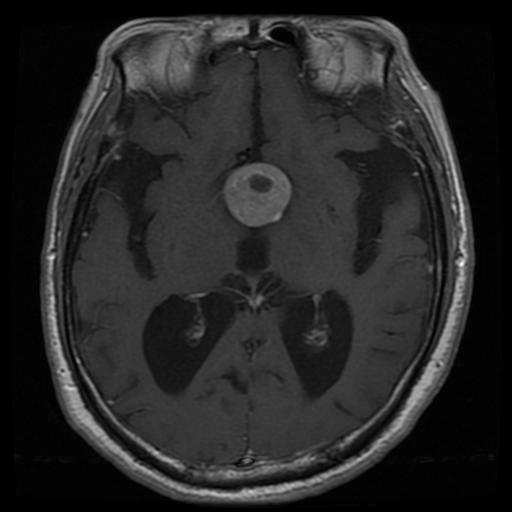Tumour-Pituitary: (217, 164, 292, 229)
